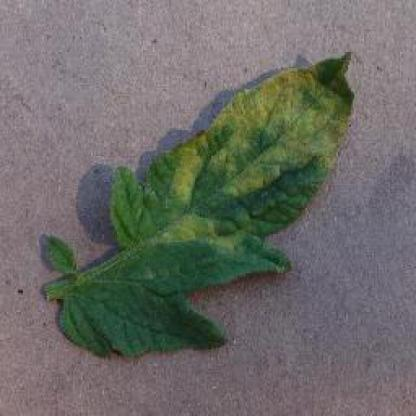Tomato_Leaf_Mold: (109, 49, 355, 290)
